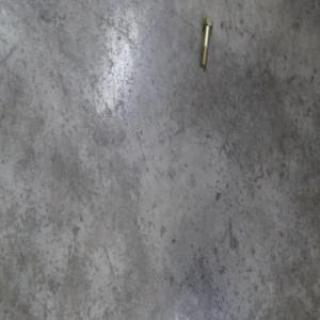Bolttrack_idkeyframe: (198, 16, 214, 67)
